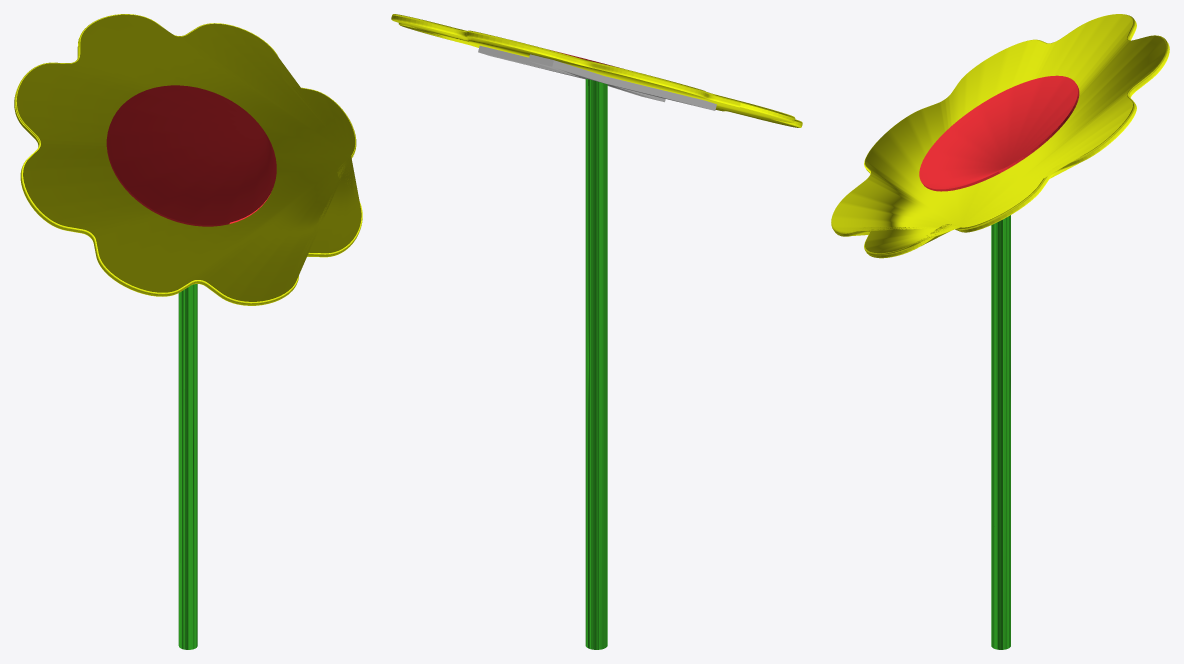
The picture shows the model from 3 angles, left to right: view 1: azimuth 30°, elevation 25°; view 2: azimuth 150°, elevation 25°; view 3: azimuth 270°, elevation 25°; orthographic projection. The views are drawn at different scales.
Visible parts, largest first — view 1: D_70; view 2: D_70; view 3: D_70.
Part boxes in pixels (x1=…): D_70: x1=14, y1=14, x2=362, y2=649; D_70: x1=391, y1=14, x2=802, y2=649; D_70: x1=831, y1=14, x2=1169, y2=649.
Size of the model in its own units: 119 by 202 by 103.
